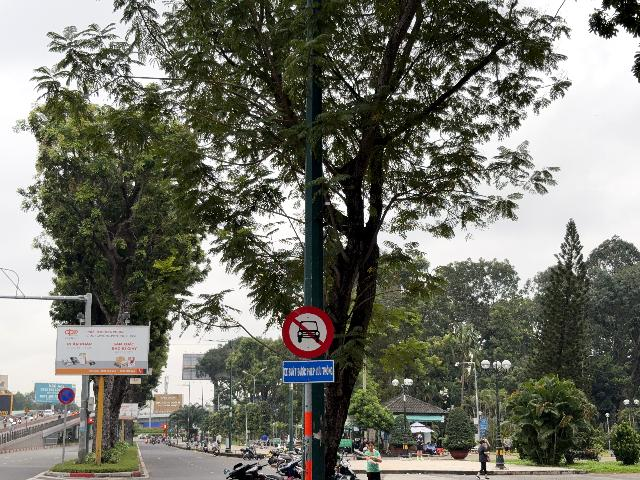cam-o-to: (282, 306, 334, 359)
